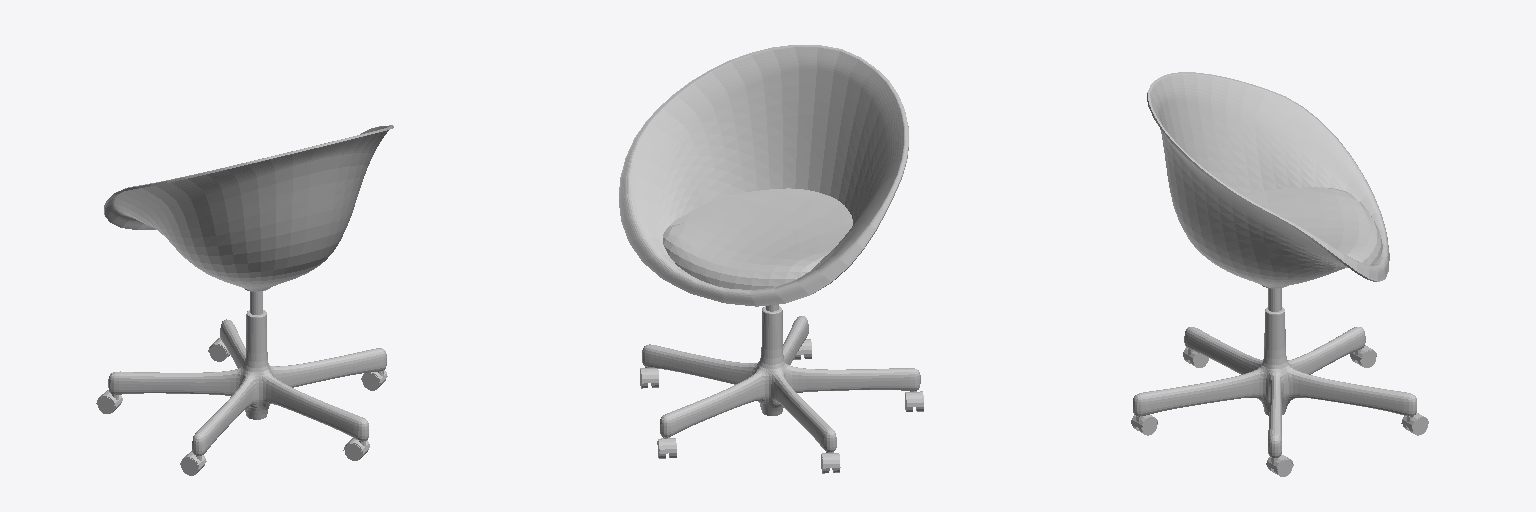
File: chair.obj
The picture shows the model from 3 angles: view 1: azimuth 30°, elevation 25°; view 2: azimuth 150°, elevation 25°; view 3: azimuth 270°, elevation 25°; orthographic projection.
Bounding box in the file's own units: 1.11 × 1.3 × 1.1.